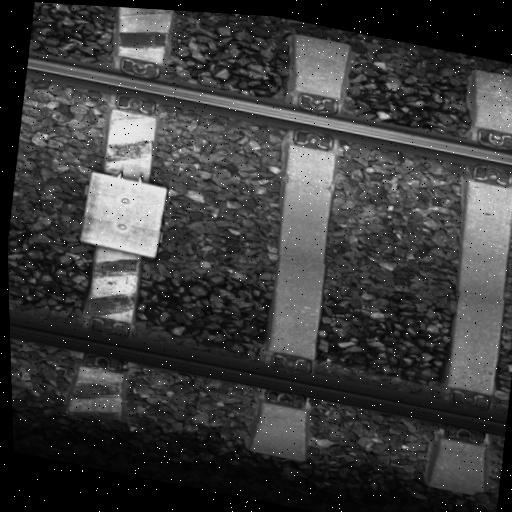sleeper: (51, 3, 189, 429), (236, 30, 364, 467), (412, 64, 512, 499)
